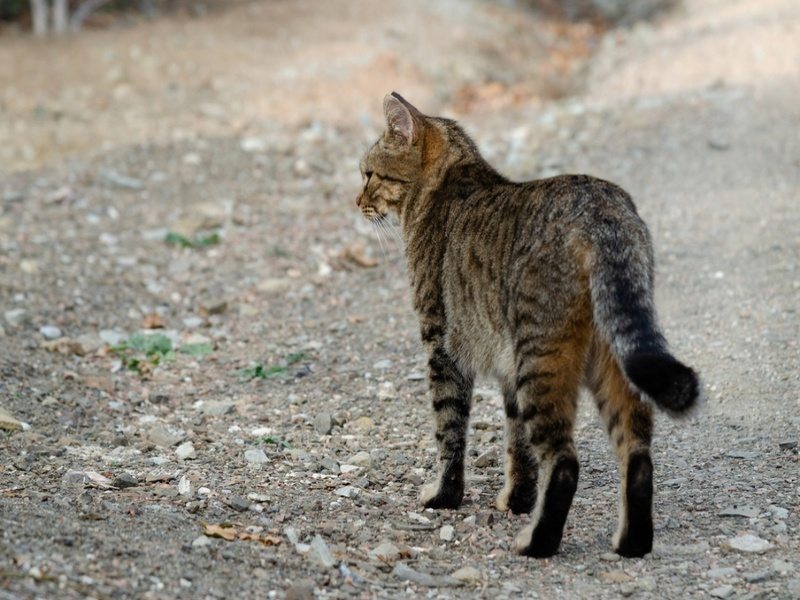cat: (357, 89, 703, 552)
